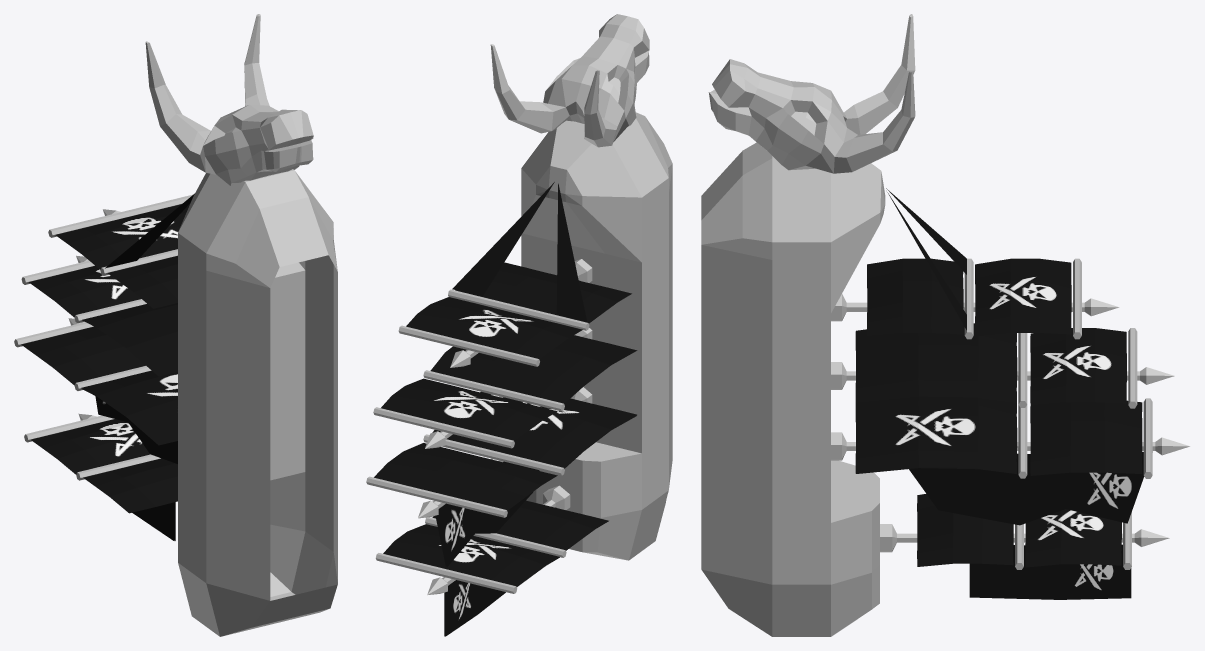
Rendered from skin_11.fbx.
The picture shows the model from 3 angles, left to right: view 1: azimuth 30°, elevation 25°; view 2: azimuth 150°, elevation 25°; view 3: azimuth 270°, elevation 25°; orthographic projection. The views are drawn at different scales.
Parts seen in each view (by area): view 1: Cube.642; view 2: Cube.642; view 3: Cube.642.
Boxes of the visible parts, x1,y1,x2,y2 form: Cube.642: (14,14,337,636); Cube.642: (366,14,672,636); Cube.642: (701,14,1189,636).
Size of the model in its own units: 439 by 1567 by 1222.
